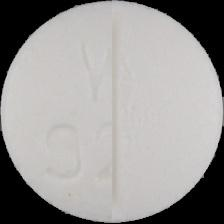53808-0452: (0, 0, 224, 224)
